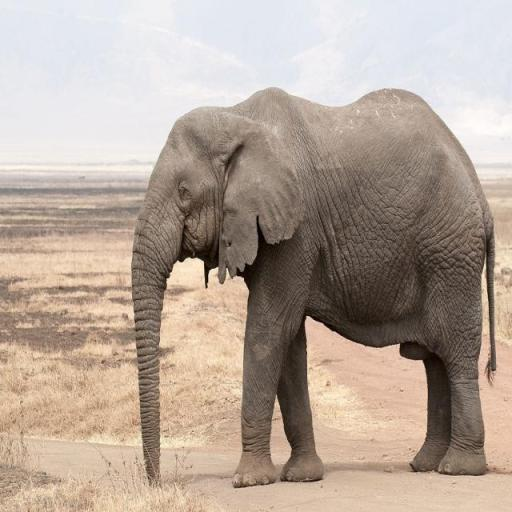Elephant: (130, 84, 497, 490)
